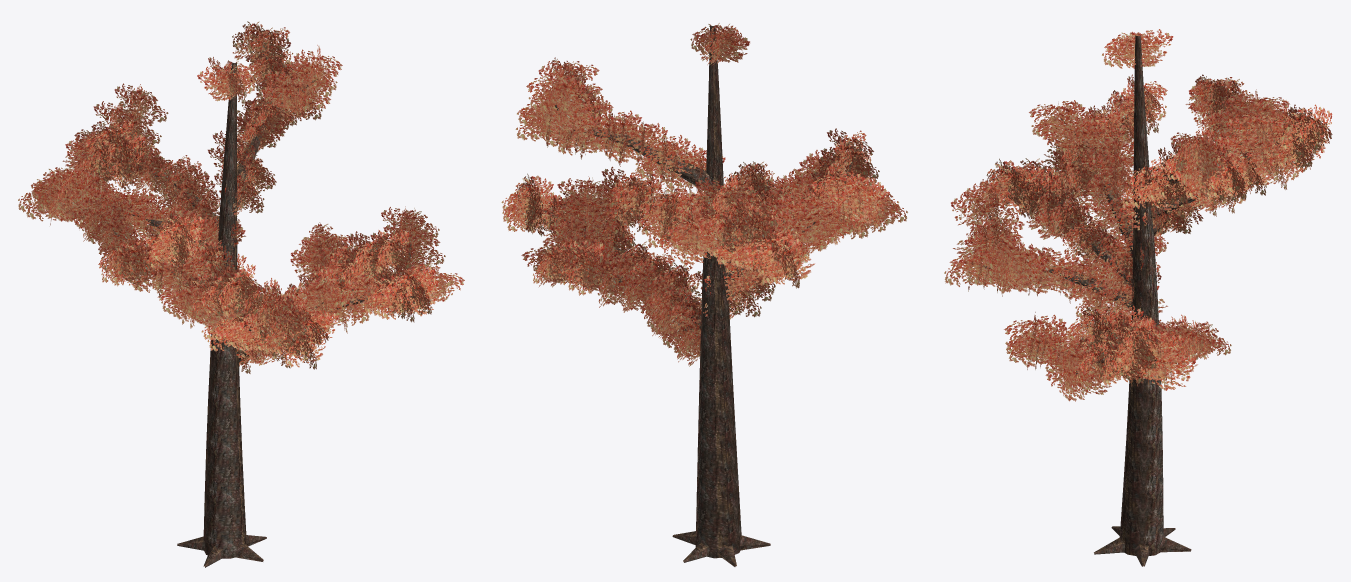
Rendered from tree_3d_05_copper_lod0.glb.
3 renders of one model, left to right at view 1: azimuth 30°, elevation 25°; view 2: azimuth 150°, elevation 25°; view 3: azimuth 270°, elevation 25°, orthographic. The views are drawn at different scales.
Parts seen in each view (by area): view 1: foliage_cards, wood_geometry; view 2: foliage_cards, wood_geometry; view 3: foliage_cards, wood_geometry.
Part boxes in pixels (<box>): foliage_cards: <box>18,21,464,373</box>; wood_geometry: <box>91,47,432,567</box>; foliage_cards: <box>501,23,907,366</box>; wood_geometry: <box>520,25,854,566</box>; foliage_cards: <box>944,29,1332,401</box>; wood_geometry: <box>982,35,1300,566</box>.
Size of the model in its own units: 11.23 by 14.66 by 10.09.
2 materials, 2 textured.
